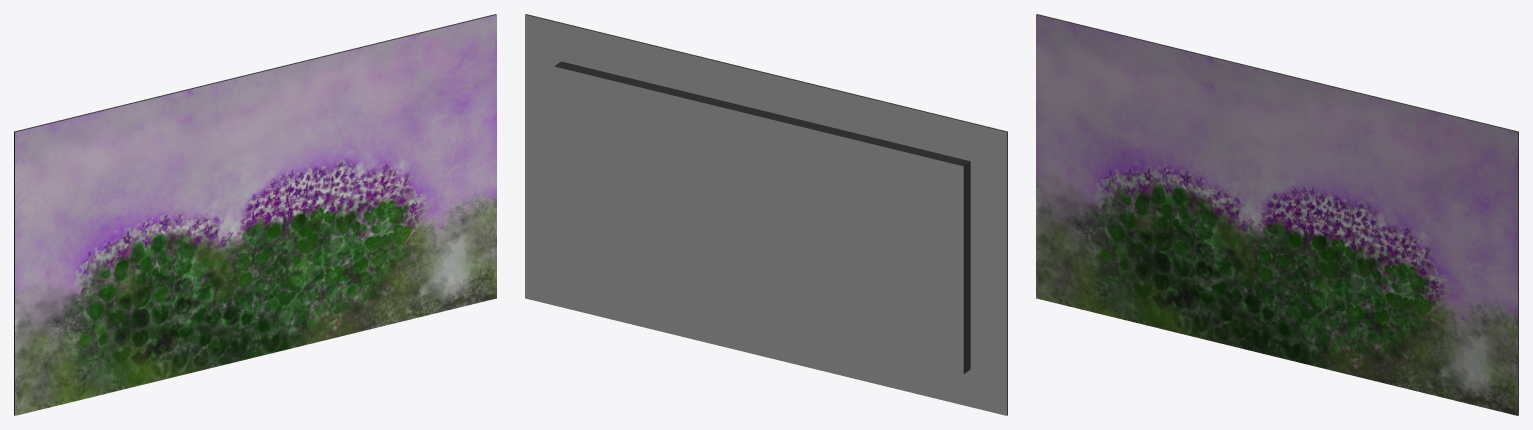
File: hz057_moyen_dibond.glb
3 renders of one model, left to right at view 1: azimuth 30°, elevation 25°; view 2: azimuth 150°, elevation 25°; view 3: azimuth 330°, elevation 25°, orthographic.
Visible parts, largest first — view 1: hz057_moyen_dibond; view 2: hz057_moyen_dibond; view 3: hz057_moyen_dibond.
Boxes of the visible parts, x1,y1,x2,y2 form: hz057_moyen_dibond: (14,14,496,415); hz057_moyen_dibond: (525,14,1007,415); hz057_moyen_dibond: (1036,14,1518,415).
Size of the model in its own units: 0.8 by 0.45 by 0.023.
4 materials, 1 textured.
